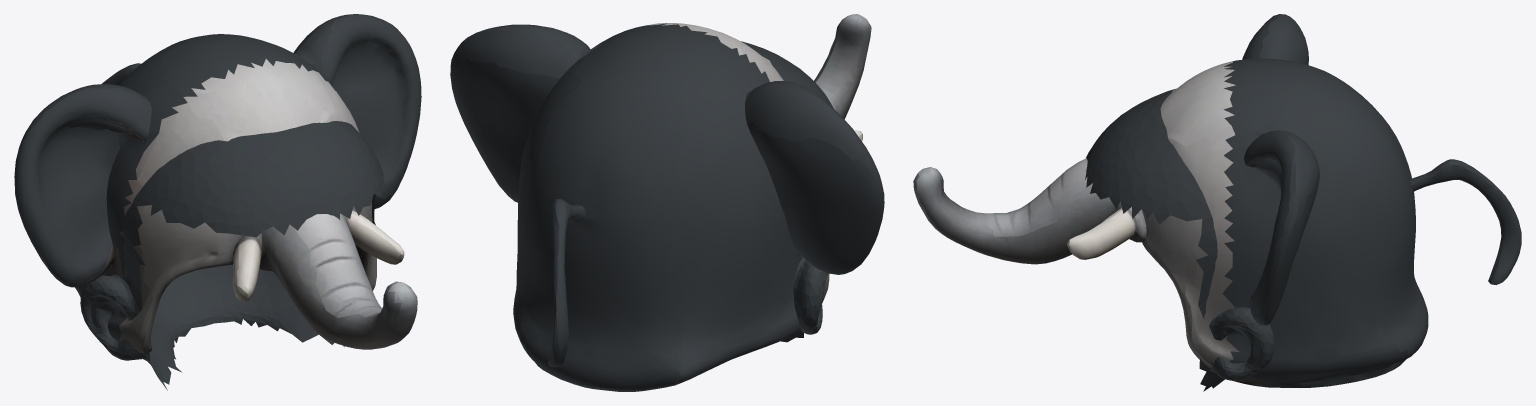
The model's file is elephant.glb.
3 renders of one model, left to right at view 1: azimuth 30°, elevation 25°; view 2: azimuth 150°, elevation 25°; view 3: azimuth 270°, elevation 25°, orthographic. The views are drawn at different scales.
Visible parts, largest first — view 1: geometry_0, HoodAnatomicalLining; view 2: geometry_0, HoodAnatomicalLining; view 3: geometry_0, HoodAnatomicalLining.
Part boxes in pixels (bbox=[...]): geometry_0: bbox=[14, 14, 421, 353]; HoodAnatomicalLining: bbox=[80, 121, 385, 390]; geometry_0: bbox=[450, 14, 884, 391]; HoodAnatomicalLining: bbox=[741, 41, 833, 342]; geometry_0: bbox=[913, 14, 1521, 387]; HoodAnatomicalLining: bbox=[1085, 89, 1274, 391].
Bounding box in the file's own units: 0.6781 × 0.4661 × 0.9107.
2 materials, 1 textured.
